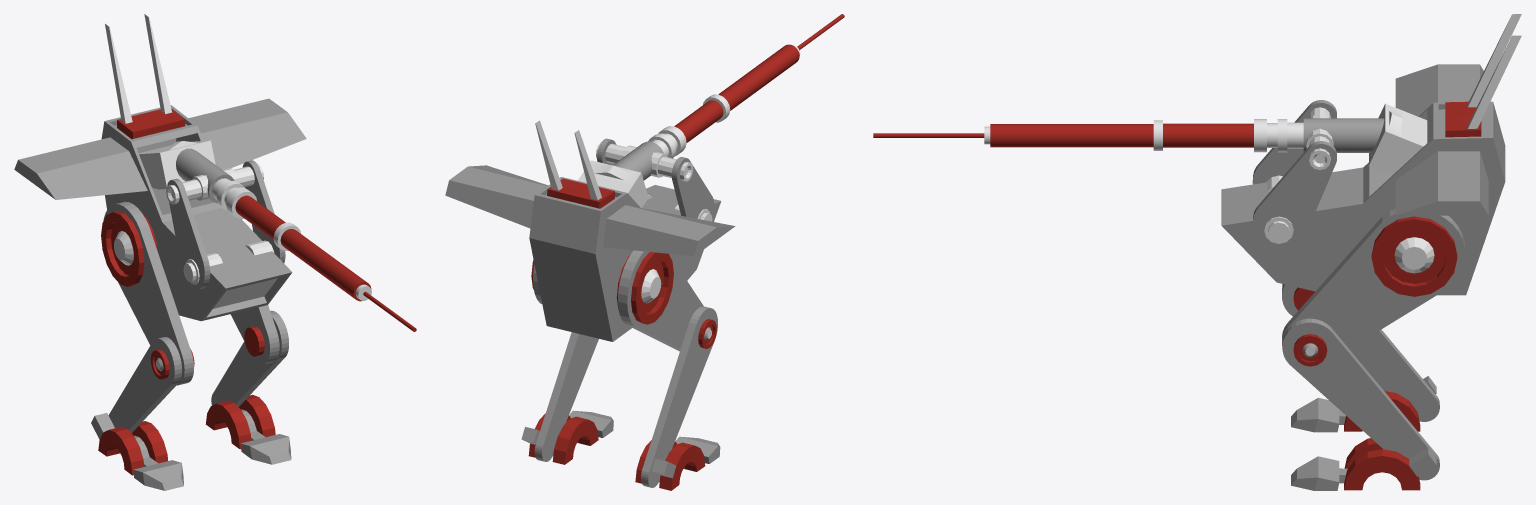
File: enemy 01.fbx
3 renders of one model, left to right at view 1: azimuth 30°, elevation 25°; view 2: azimuth 150°, elevation 25°; view 3: azimuth 270°, elevation 25°, orthographic. The views are drawn at different scales.
Parts seen in each view (by area): view 1: Body, Weapon, Legs_Upper_R, Arm, Feet_R, Legs_Lower_R, Feet_L, Legs_Lower_L, Legs_Upper_L; view 2: Body, Weapon, Legs_Upper_R, Legs_Lower_R, Legs_Lower_L, Arm, Feet_L, Feet_R; view 3: Body, Weapon, Legs_Upper_L, Legs_Lower_L, Arm, Feet_L, Legs_Lower_R, Feet_R.
Boxes of the visible parts, x1,y1,x2,y2 form: Body: (14,14,306,321); Weapon: (138,140,416,331); Legs_Upper_R: (101,201,193,385); Arm: (166,160,285,289); Feet_R: (91,413,183,490); Legs_Lower_R: (108,337,194,433); Feet_L: (205,394,291,464); Legs_Lower_L: (211,310,288,406); Legs_Upper_L: (230,219,279,364); Body: (445,120,735,341); Weapon: (577,14,844,207); Legs_Upper_R: (616,250,703,351); Legs_Lower_R: (641,306,717,487); Legs_Lower_L: (534,332,598,461); Arm: (596,138,714,221); Feet_L: (521,410,613,464); Feet_R: (635,436,720,490); Body: (1221,14,1521,295); Weapon: (873,103,1427,174); Legs_Upper_L: (1282,209,1465,348); Legs_Lower_L: (1282,318,1439,480); Arm: (1252,100,1336,248); Feet_L: (1291,438,1436,490); Legs_Lower_R: (1282,284,1439,421); Feet_R: (1291,376,1436,432).
Bounding box in the file's own units: 167 × 242 × 334.
